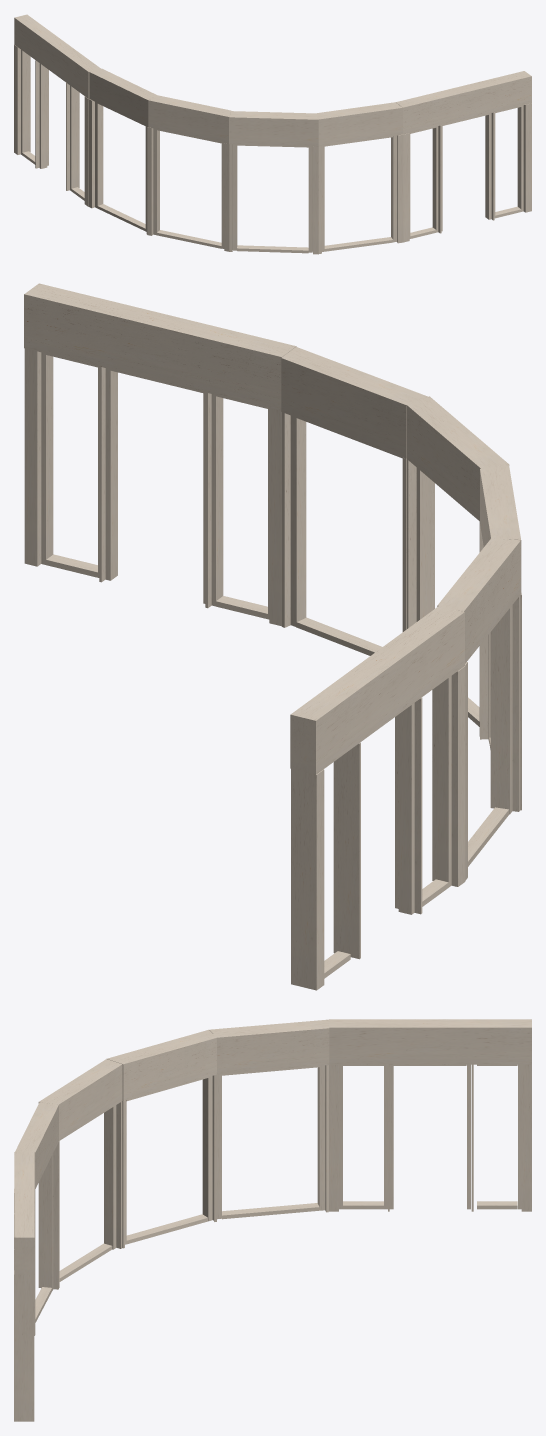
The model's file is InnerWalls9.fbx.
3 views of the same model, one above another, from view 1: azimuth 30°, elevation 25°; view 2: azimuth 150°, elevation 25°; view 3: azimuth 270°, elevation 25° (orthographic). The views are drawn at different scales.
Parts seen in each view (by area): view 1: walls, top; view 2: walls, top; view 3: top, walls.
Boxes of the visible parts, bbox=[...] form: walls: bbox=[14, 44, 531, 254]; top: bbox=[14, 14, 531, 146]; walls: bbox=[24, 348, 521, 990]; top: bbox=[24, 283, 521, 774]; top: bbox=[14, 1019, 531, 1274]; walls: bbox=[14, 1064, 531, 1421].
Bounding box in the file's own units: 25.5 × 10.01 × 25.51.
